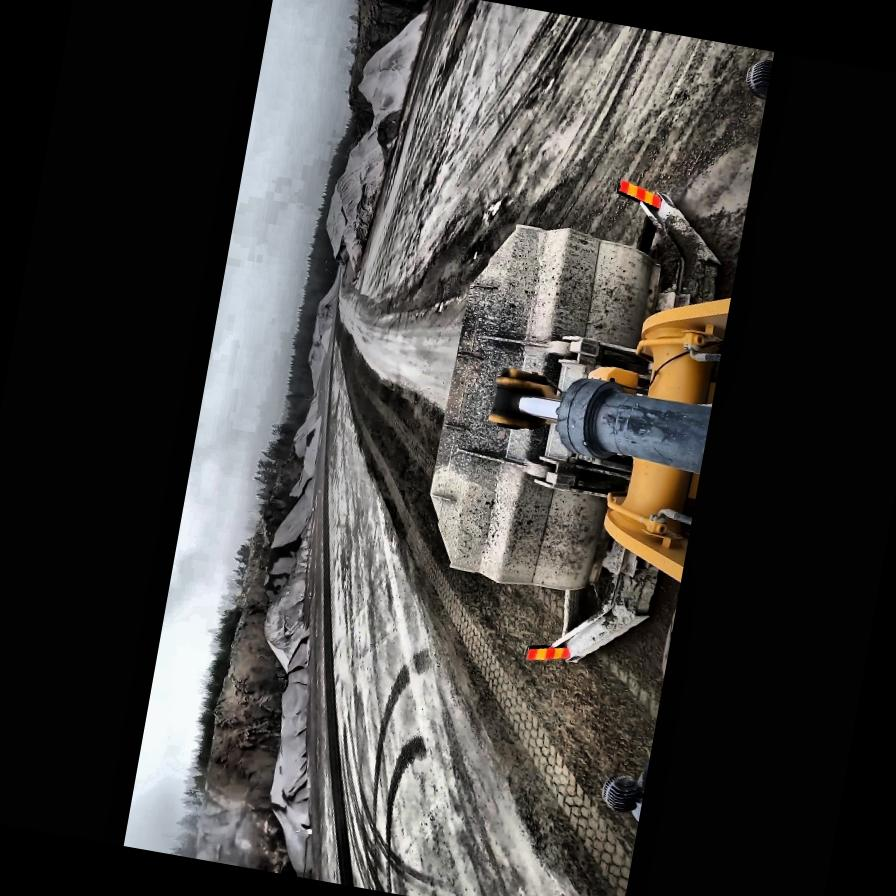anchor: (486, 365, 562, 432)
pile of gravel: (315, 0, 434, 270), (250, 628, 342, 870), (246, 504, 332, 677), (302, 266, 342, 390), (260, 789, 316, 875), (264, 736, 312, 816), (288, 395, 321, 463), (302, 338, 326, 392)
